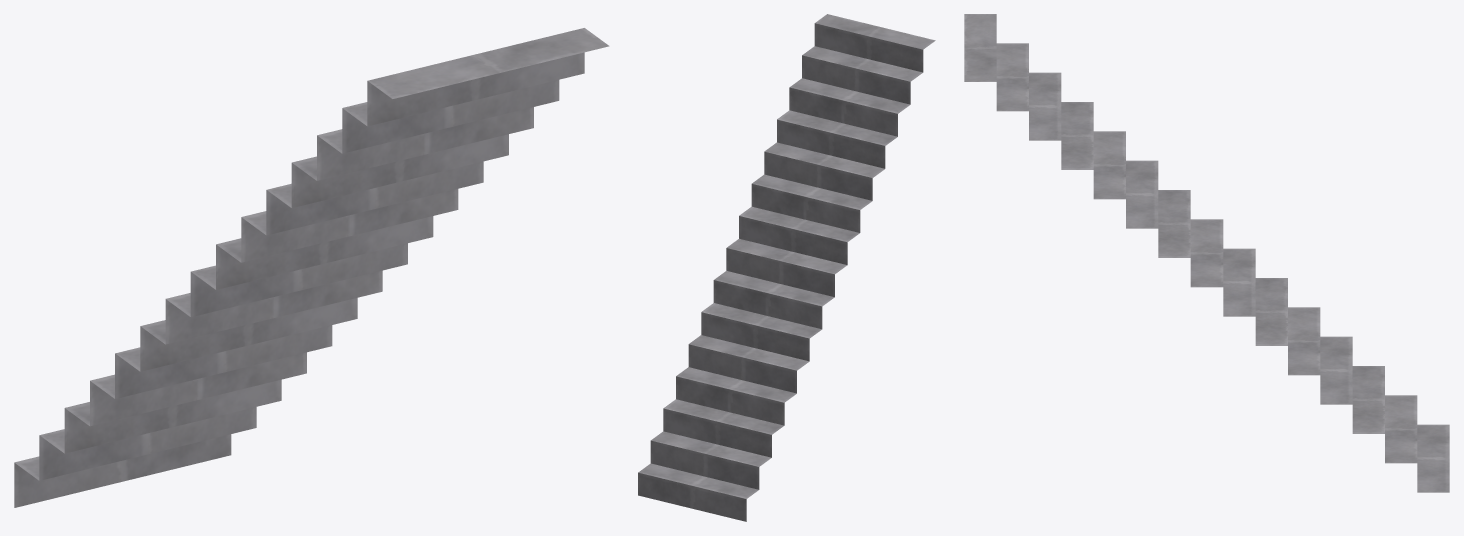
File: Stair_3H_C.fbx
The picture shows the model from 3 angles, left to right: view 1: azimuth 30°, elevation 25°; view 2: azimuth 150°, elevation 25°; view 3: azimuth 270°, elevation 25°; orthographic projection. The views are drawn at different scales.
Visible parts, largest first — view 1: Stair_3H_C; view 2: Stair_3H_C; view 3: Stair_3H_C.
Boxes of the visible parts, x1,y1,x2,y2 form: Stair_3H_C: (14,28,609,507); Stair_3H_C: (638,14,935,521); Stair_3H_C: (964,14,1449,492).
Size of the model in its own units: 0.9939 by 3 by 3.
